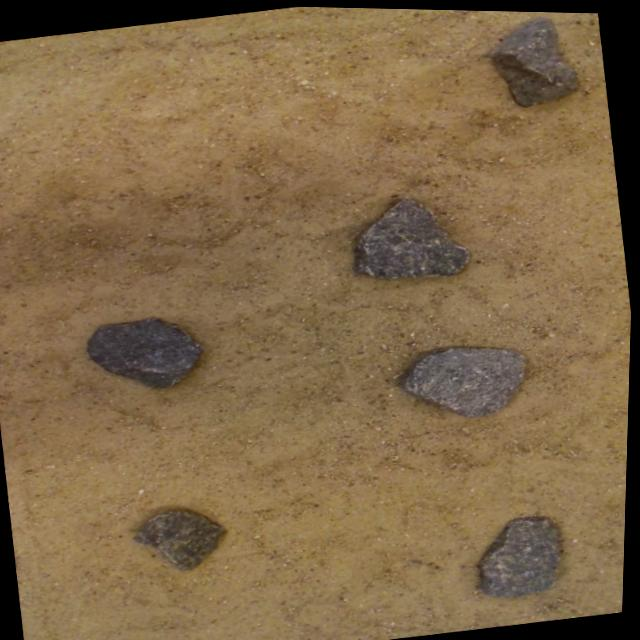rock: (357, 196, 471, 277), (406, 345, 527, 415), (90, 318, 204, 387), (493, 15, 579, 104), (483, 514, 564, 594), (137, 509, 228, 569)
